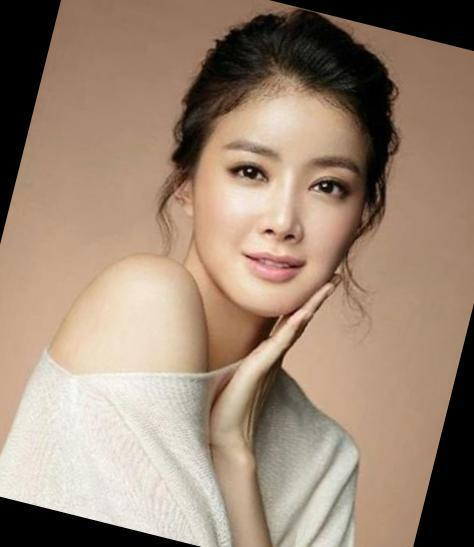Sober: (214, 88, 353, 299)
